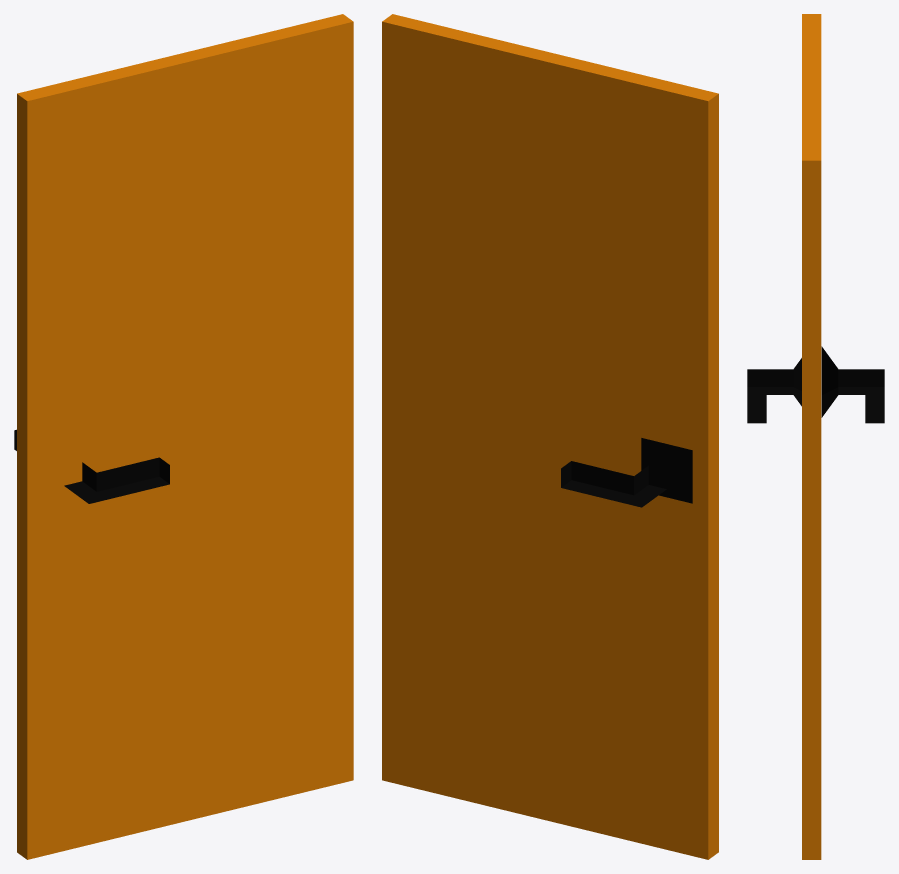
The model's file is JustDoor.fbx.
3 views of the same model, side by side, from view 1: azimuth 30°, elevation 25°; view 2: azimuth 150°, elevation 25°; view 3: azimuth 270°, elevation 25° (orthographic). The views are drawn at different scales.
Parts seen in each view (by area): view 1: Door; view 2: Door; view 3: Door.
Boxes of the visible parts, box(x1,y1,x2,y2) form: Door: box(14, 14, 353, 859); Door: box(382, 14, 718, 859); Door: box(747, 14, 884, 859).
Size of the model in its own units: 215 by 478 by 85.21.
